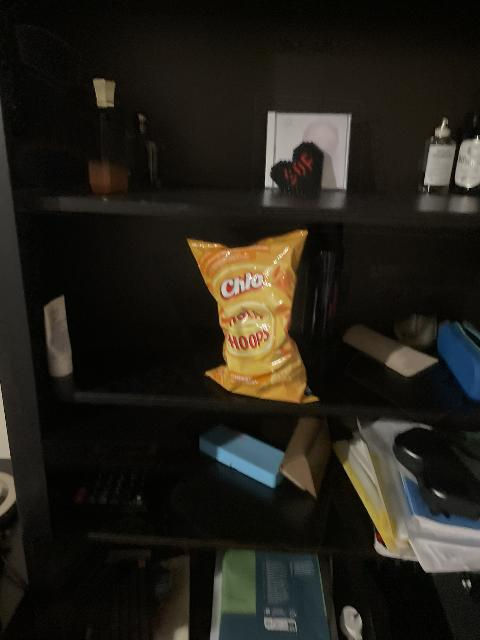Chio Hula Hoops Cheese 70g: (185, 232, 315, 400)
